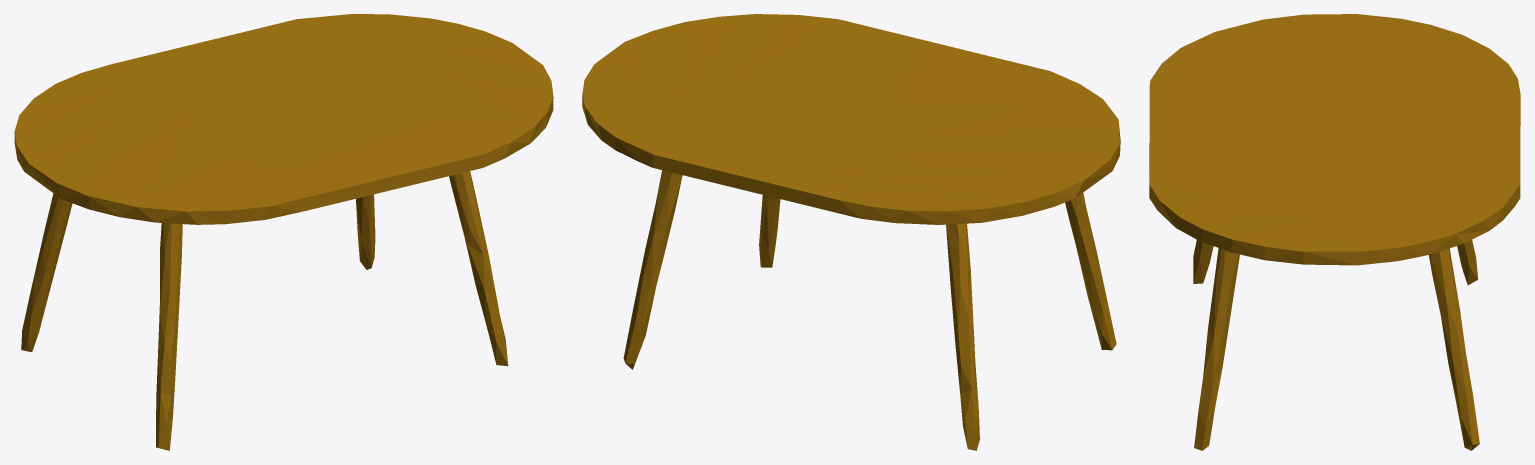
File: tisch.obj
The picture shows the model from 3 angles, left to right: view 1: azimuth 30°, elevation 25°; view 2: azimuth 150°, elevation 25°; view 3: azimuth 270°, elevation 25°; orthographic projection.
Parts seen in each view (by area): view 1: 282337_23_05_24_18_01_18_2, 282337_23_05_24_18_01_18_1; view 2: 282337_23_05_24_18_01_18_2, 282337_23_05_24_18_01_18_1; view 3: 282337_23_05_24_18_01_18_2, 282337_23_05_24_18_01_18_1.
Part boxes in pixels (<box>): 282337_23_05_24_18_01_18_2: <box>14,14,553,224</box>; 282337_23_05_24_18_01_18_1: <box>21,171,508,450</box>; 282337_23_05_24_18_01_18_2: <box>582,14,1120,224</box>; 282337_23_05_24_18_01_18_1: <box>623,170,1116,450</box>; 282337_23_05_24_18_01_18_2: <box>1149,14,1520,265</box>; 282337_23_05_24_18_01_18_1: <box>1193,240,1479,450</box>.
Bounding box in the file's own units: 14.07 × 6.73 × 9.27.
Materials: 2 (2 with a texture image).
